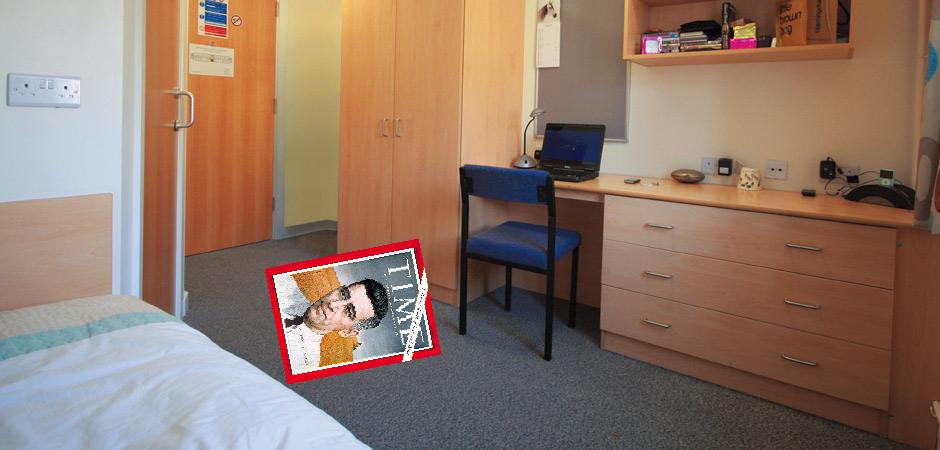times: (262, 231, 443, 388)
